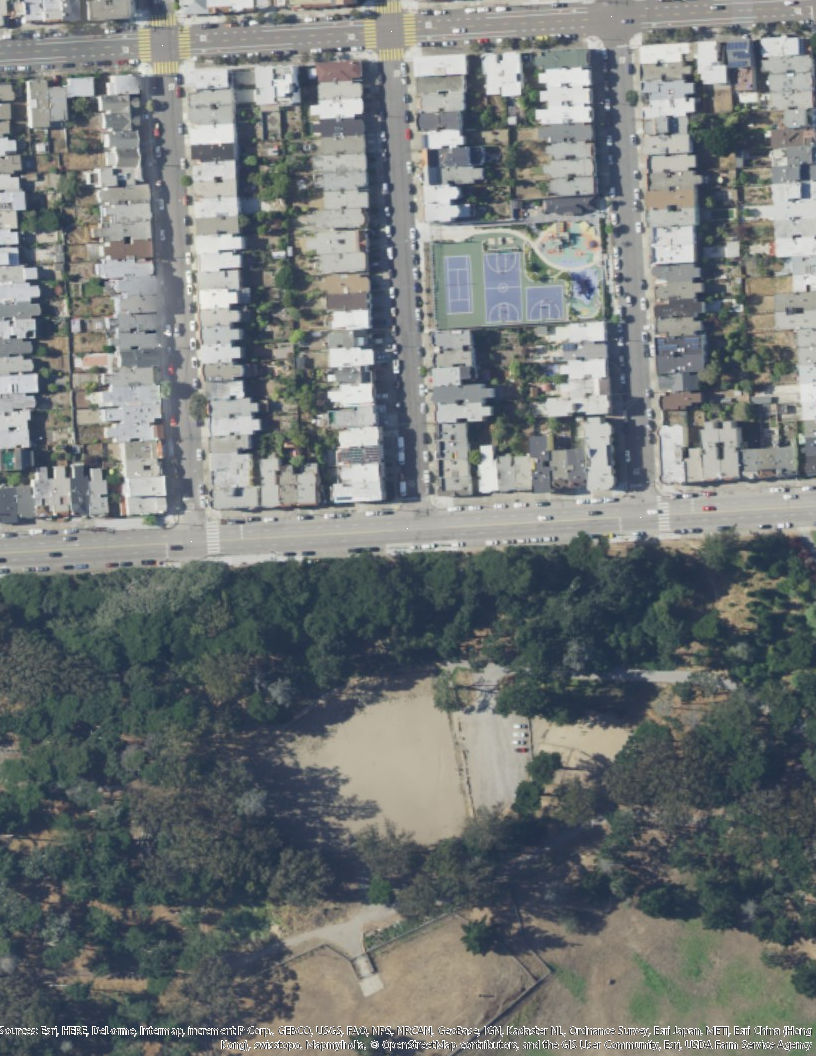zebracross: (361, 16, 379, 50), (204, 522, 222, 555), (401, 13, 419, 46), (137, 25, 152, 62), (177, 25, 191, 62), (657, 500, 671, 532), (148, 13, 179, 27), (375, 1, 403, 14), (155, 61, 180, 75), (377, 49, 405, 61)
